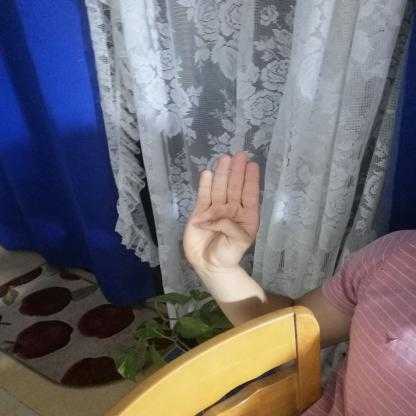KAAF: (173, 141, 274, 276)
